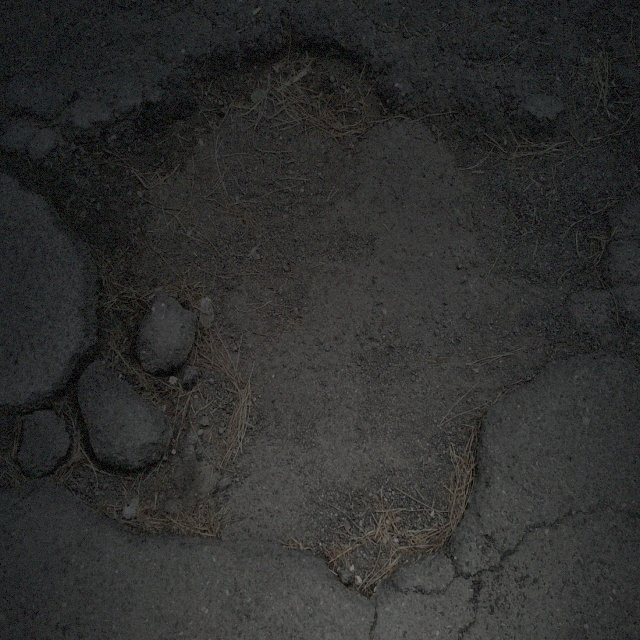pothole: (34, 22, 532, 584)
